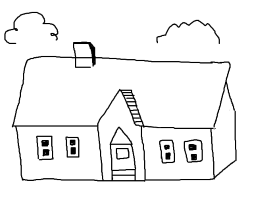chimney: (71, 41, 97, 68)
closed_window: (183, 138, 203, 163), (158, 139, 176, 165), (36, 136, 55, 160), (64, 135, 80, 158)
clouds: (3, 10, 59, 46), (156, 17, 221, 47)
door: (109, 126, 137, 182)
roof: (12, 49, 231, 128)
wall: (15, 123, 238, 181)
